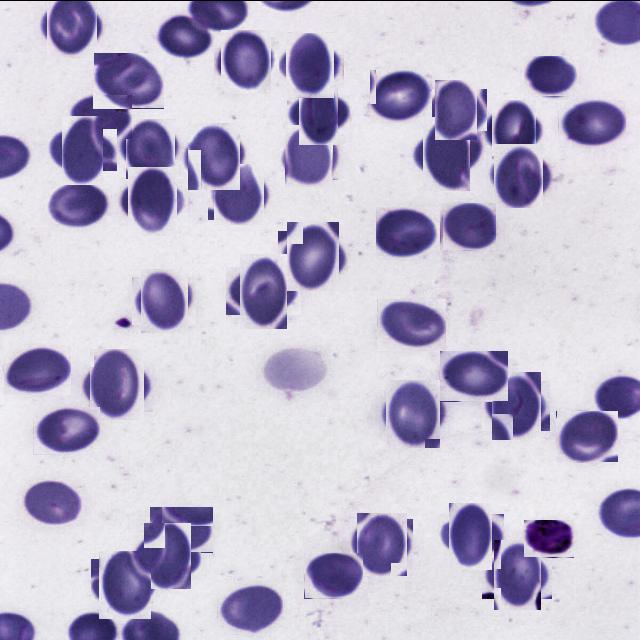red blood cell: (93, 52, 164, 108), (85, 352, 148, 415), (232, 259, 294, 321), (382, 382, 444, 444), (416, 123, 477, 184), (282, 226, 344, 286), (96, 554, 156, 614), (184, 126, 244, 186), (377, 298, 446, 350), (439, 350, 508, 401), (486, 376, 546, 434), (488, 544, 546, 604), (124, 170, 182, 230), (376, 206, 441, 259), (369, 69, 432, 123), (217, 583, 283, 634), (4, 344, 71, 394), (218, 32, 275, 90), (558, 99, 626, 147), (353, 515, 410, 572), (139, 527, 196, 584), (490, 147, 547, 204), (282, 36, 340, 92), (556, 410, 618, 462), (33, 406, 100, 454), (21, 477, 86, 526), (136, 272, 192, 328), (211, 166, 267, 222), (54, 121, 110, 177), (43, 0, 101, 54), (46, 179, 108, 229), (282, 127, 337, 183), (123, 120, 177, 176), (443, 508, 498, 562), (149, 506, 213, 552), (304, 552, 363, 598), (488, 102, 540, 154), (430, 83, 482, 135), (154, 13, 214, 58), (71, 94, 132, 138), (293, 88, 344, 139), (442, 202, 496, 250), (523, 55, 579, 96)
schizont: (523, 518, 574, 556)
